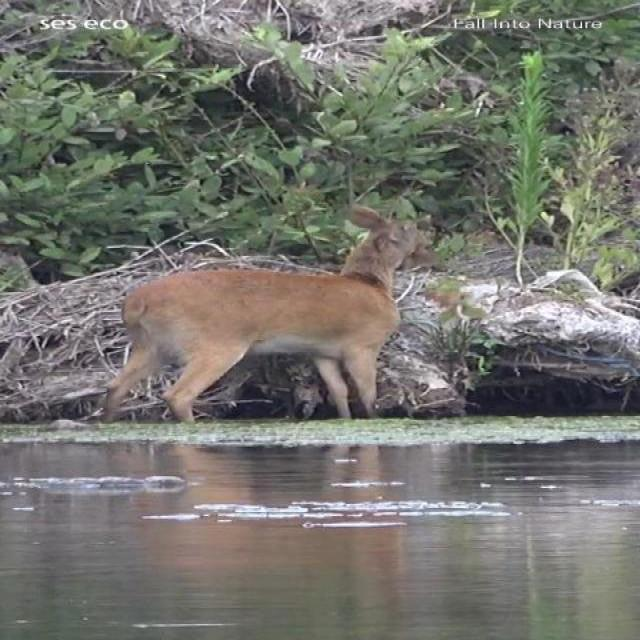deer: (100, 202, 436, 418)
